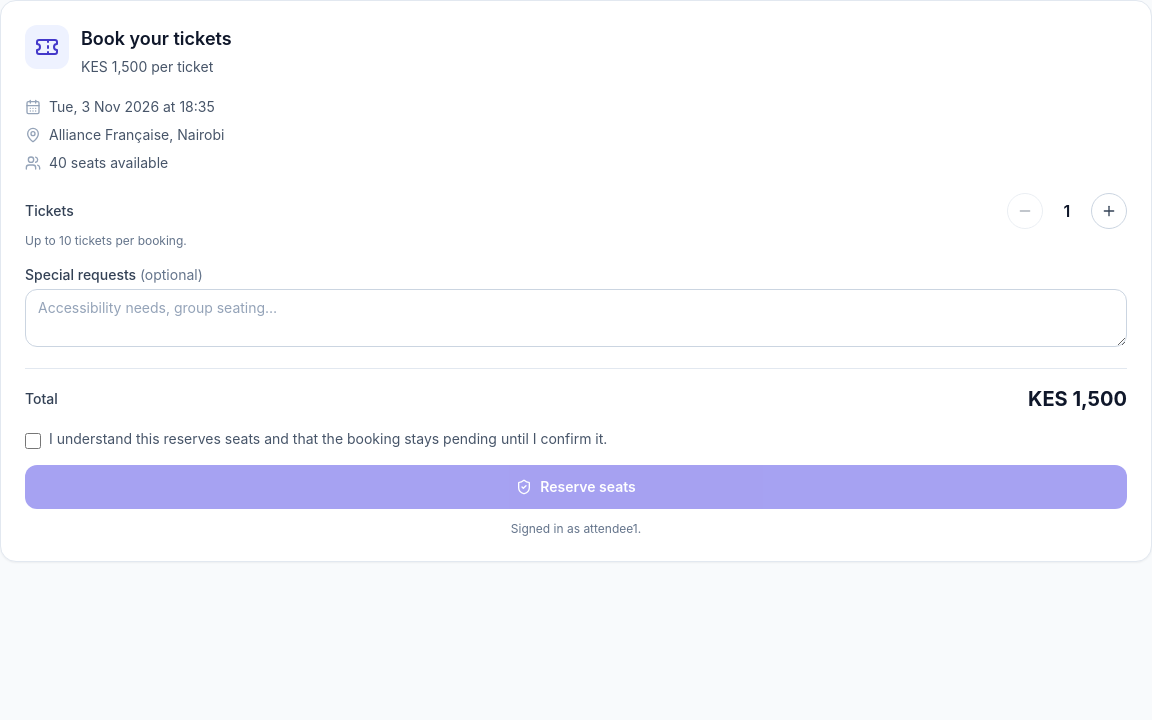
Test: TicketSelector › shows the server error when seats cannot be reserved
The image size is (1152, 720).
Click the checkbox.
click(33, 441)  # box [25, 433, 41, 449]
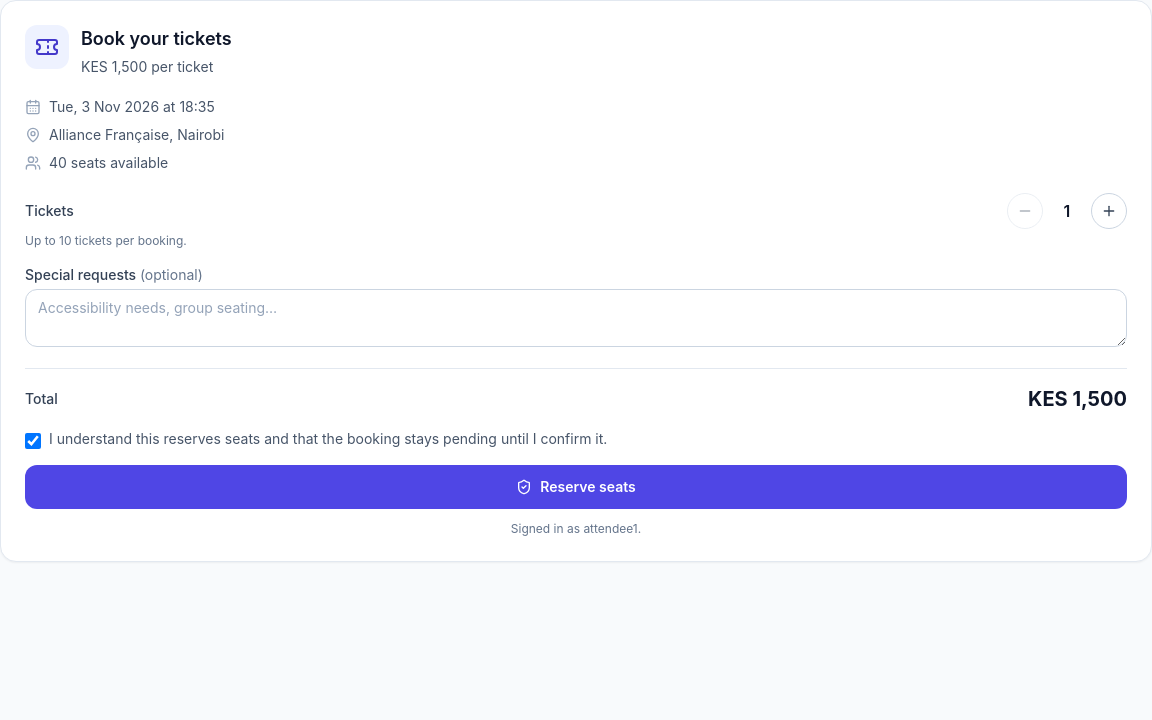
Click the button "Reserve seats".
click(576, 487)  # box [25, 465, 1127, 509]
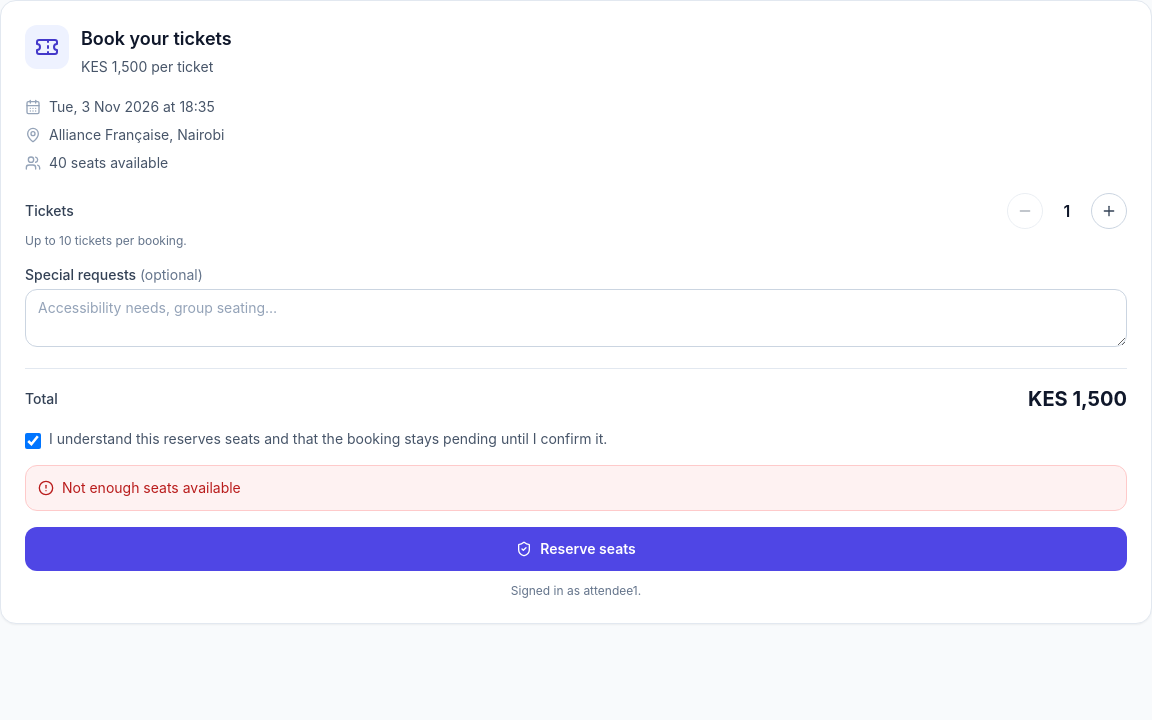
Check: the message reads "Not enough seats available", box [62, 479, 241, 496]
